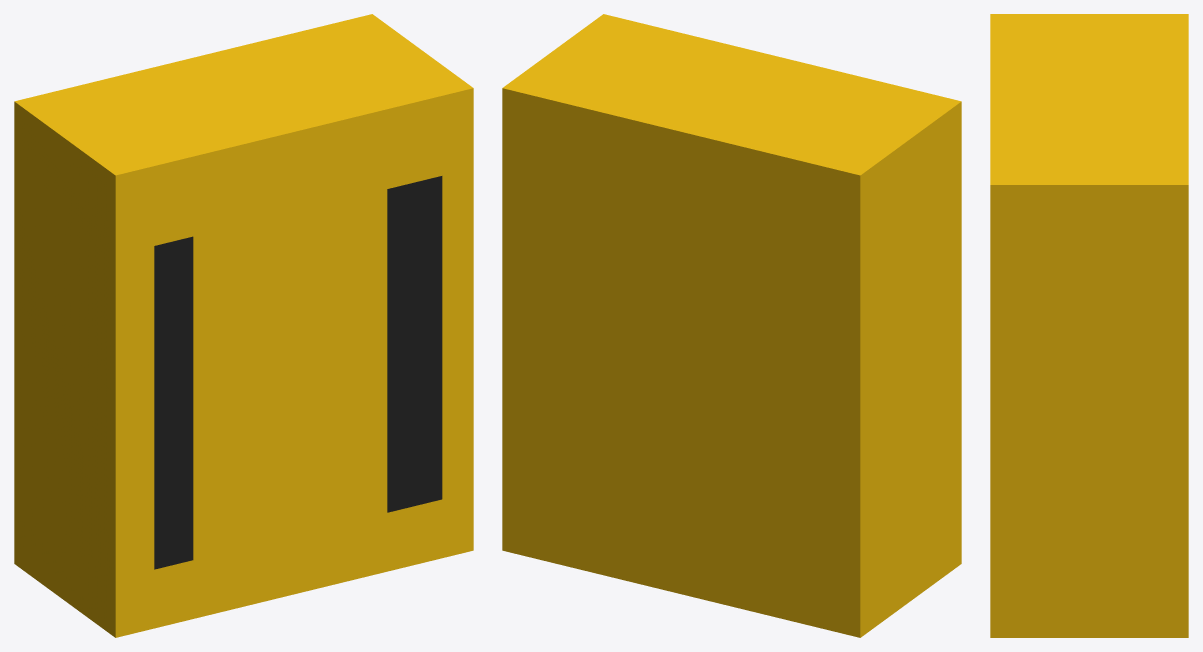
The model's file is CrowbarBox.obj.
The picture shows the model from 3 angles, left to right: view 1: azimuth 30°, elevation 25°; view 2: azimuth 150°, elevation 25°; view 3: azimuth 270°, elevation 25°; orthographic projection. The views are drawn at different scales.
Visible parts, largest first — view 1: Base.001; view 2: Base.001; view 3: Base.001.
Boxes of the visible parts, x1,y1,x2,y2 form: Base.001: (14, 14, 473, 637); Base.001: (502, 14, 961, 637); Base.001: (990, 14, 1188, 637).
Bounding box in the file's own units: 0.7201 × 0.8886 × 0.3528.
Materials: 2 (2 with a texture image).
